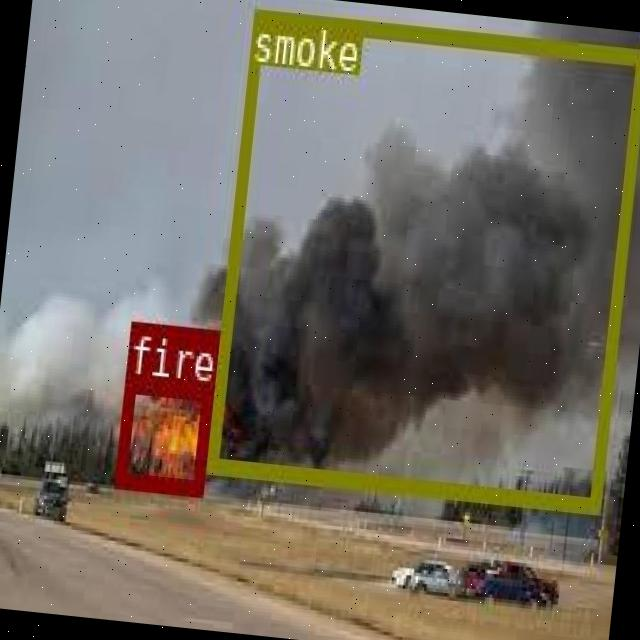fire: (113, 373, 211, 494)
smoke: (205, 6, 640, 509)
